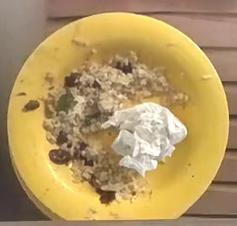rice: (42, 51, 175, 136), (69, 126, 149, 202)
